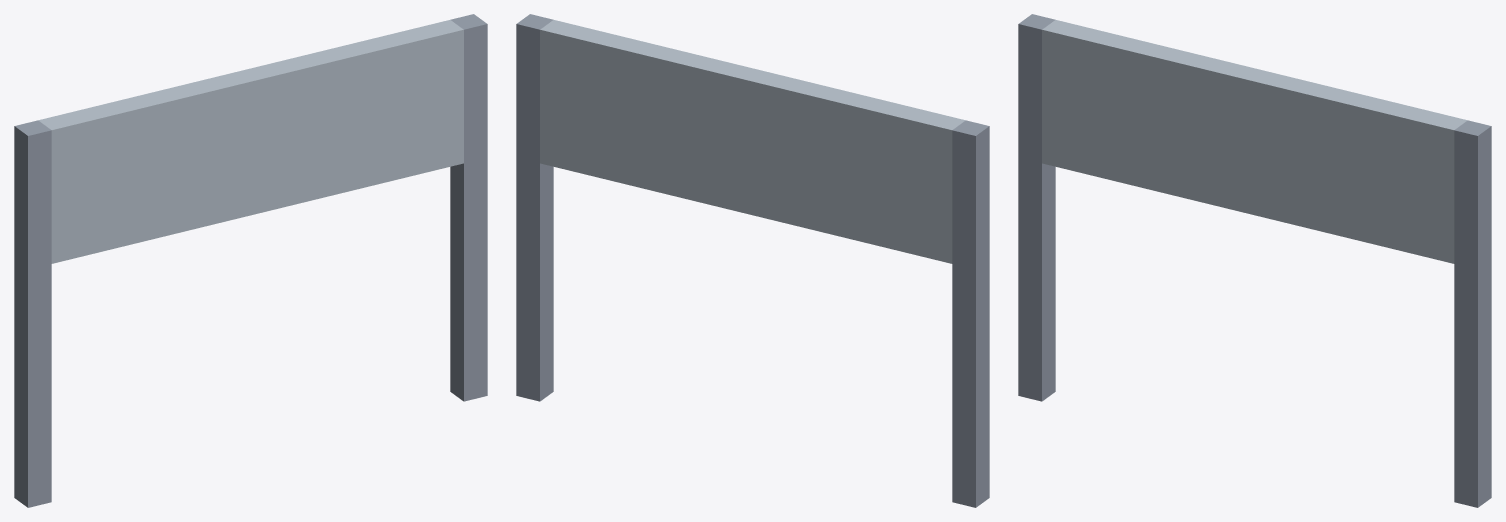
The model's file is Sign.fbx.
3 views of the same model, side by side, from view 1: azimuth 30°, elevation 25°; view 2: azimuth 150°, elevation 25°; view 3: azimuth 330°, elevation 25° (orthographic).
Visible parts, largest first — view 1: Sign; view 2: Sign; view 3: Sign.
Part boxes in pixels (x1,y1,x2,y2): Sign: (14,14,487,507); Sign: (516,14,989,507); Sign: (1018,14,1491,507).
Bounding box in the file's own units: 2.74 × 2.12 × 0.1407.
